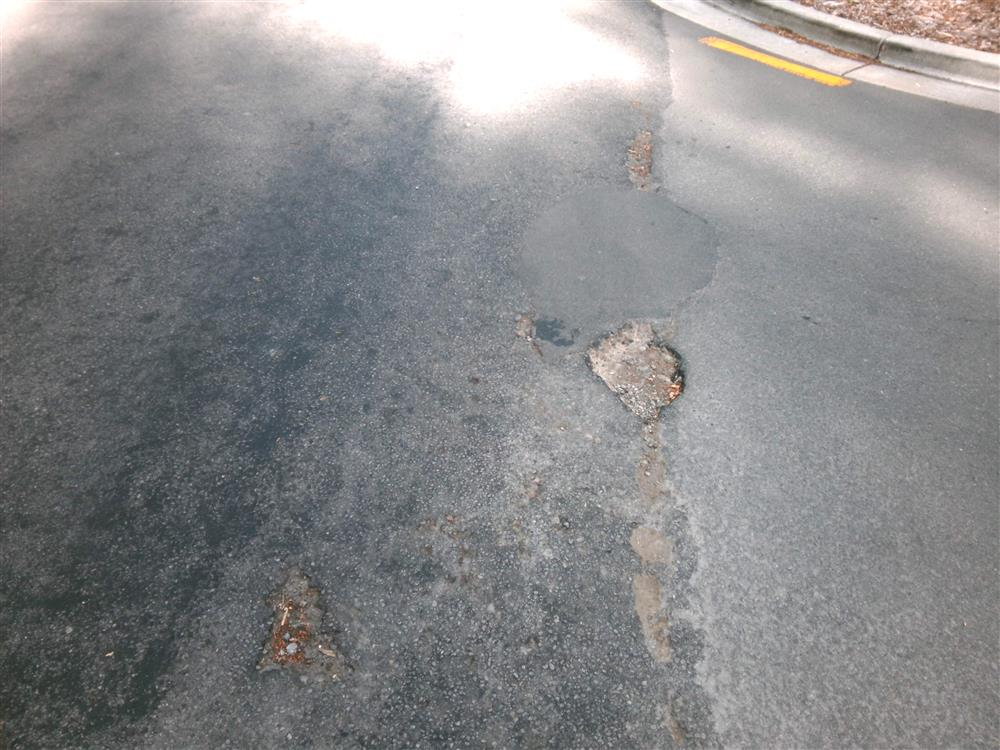pothole: (590, 321, 688, 431), (252, 576, 338, 671), (623, 125, 654, 192)
